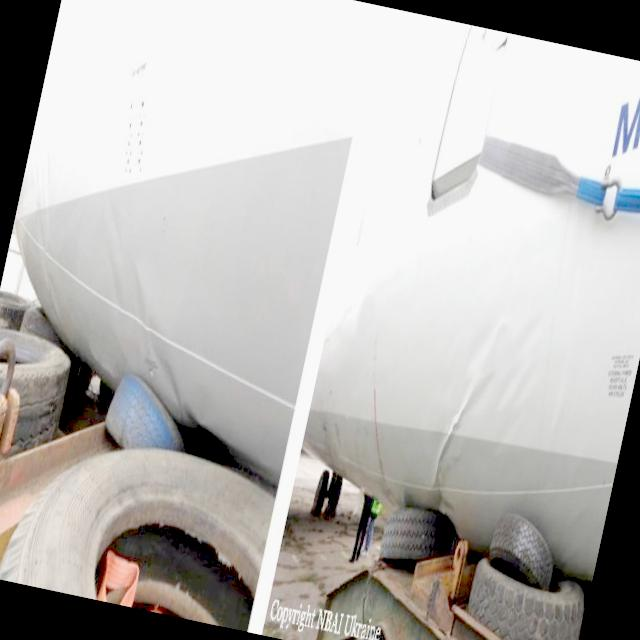dent: (59, 191, 232, 426), (419, 287, 556, 530)
